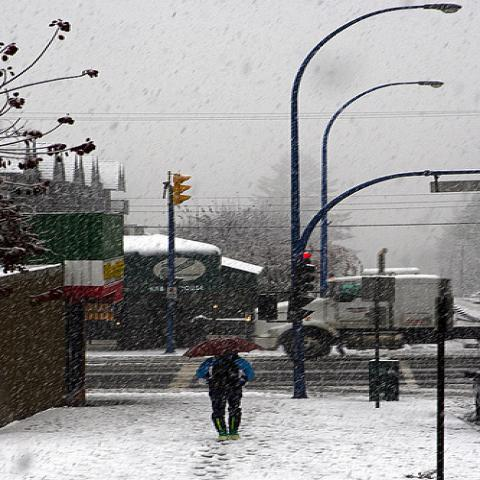truck: (239, 276, 454, 364)
